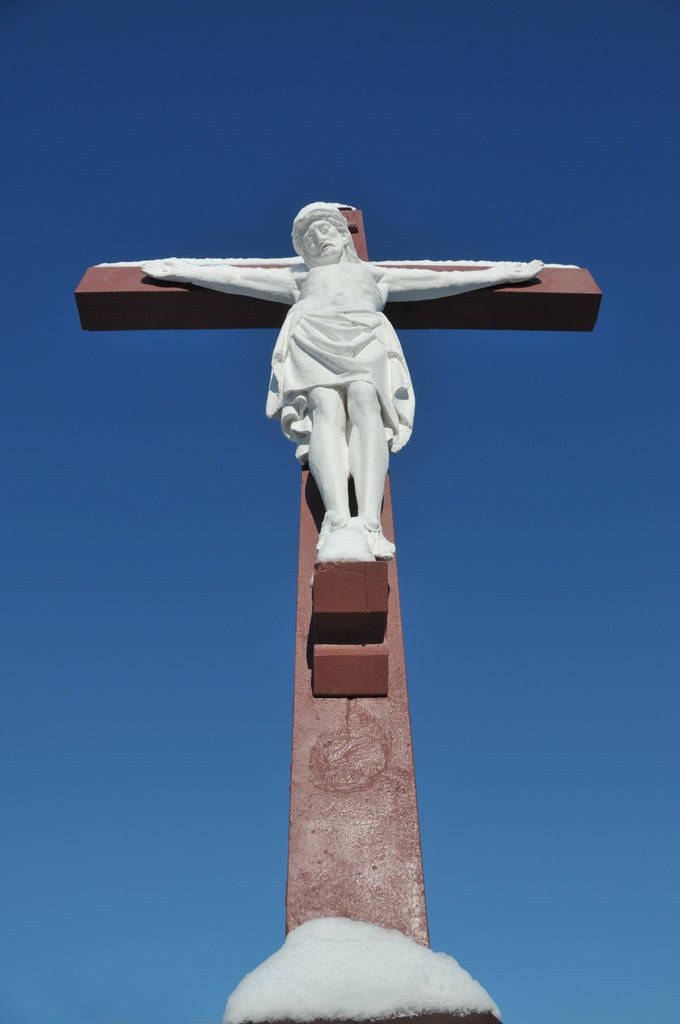Person: (139, 201, 544, 563)
